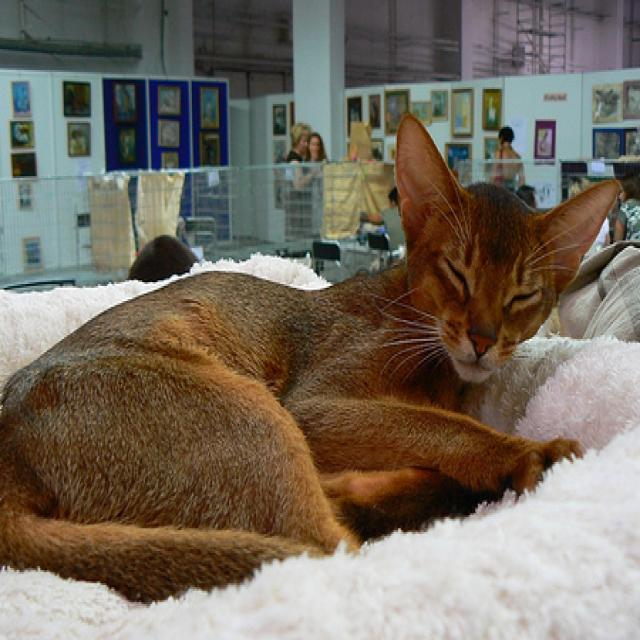Abyssinian: (0, 106, 627, 612)
